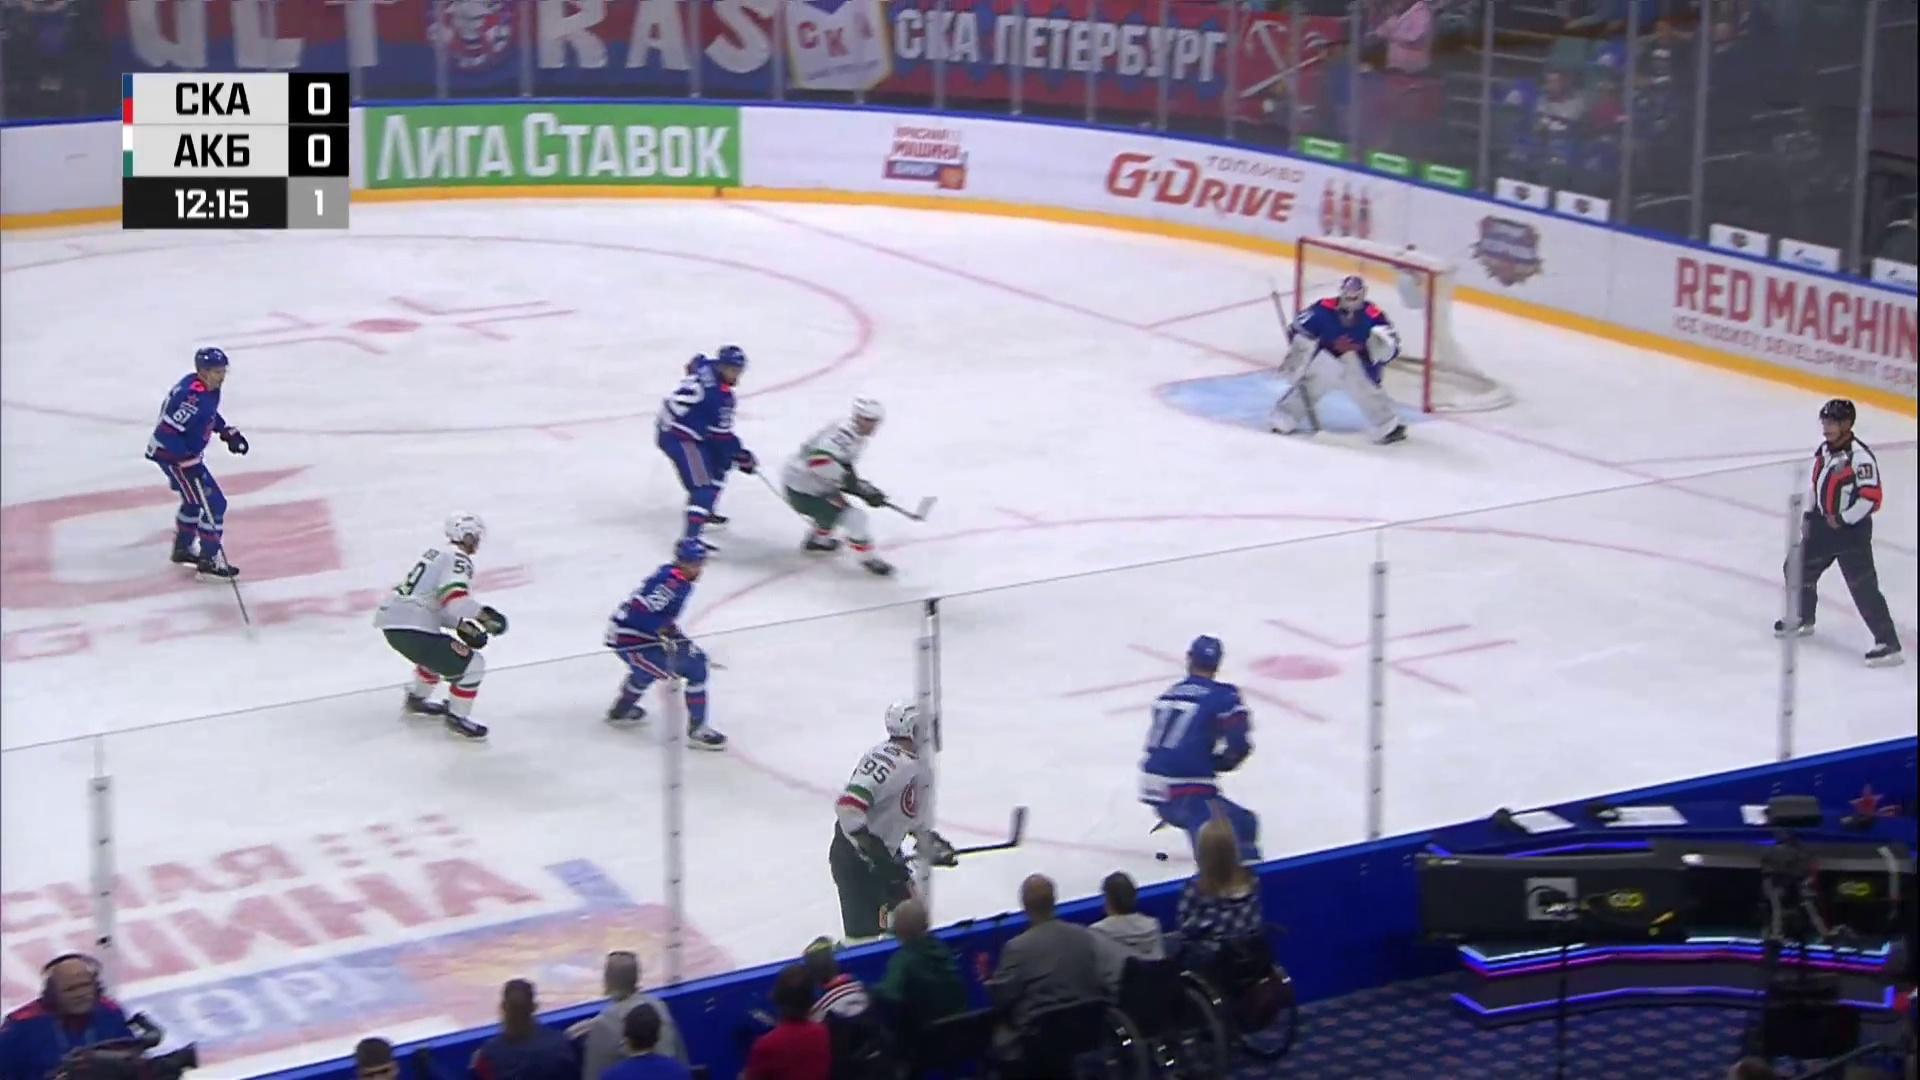ball: (1155, 852, 1170, 864)
